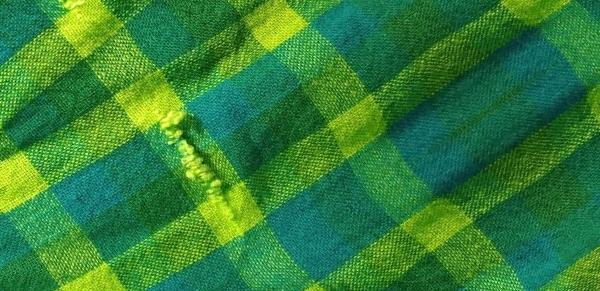knot: (157, 107, 248, 234)
